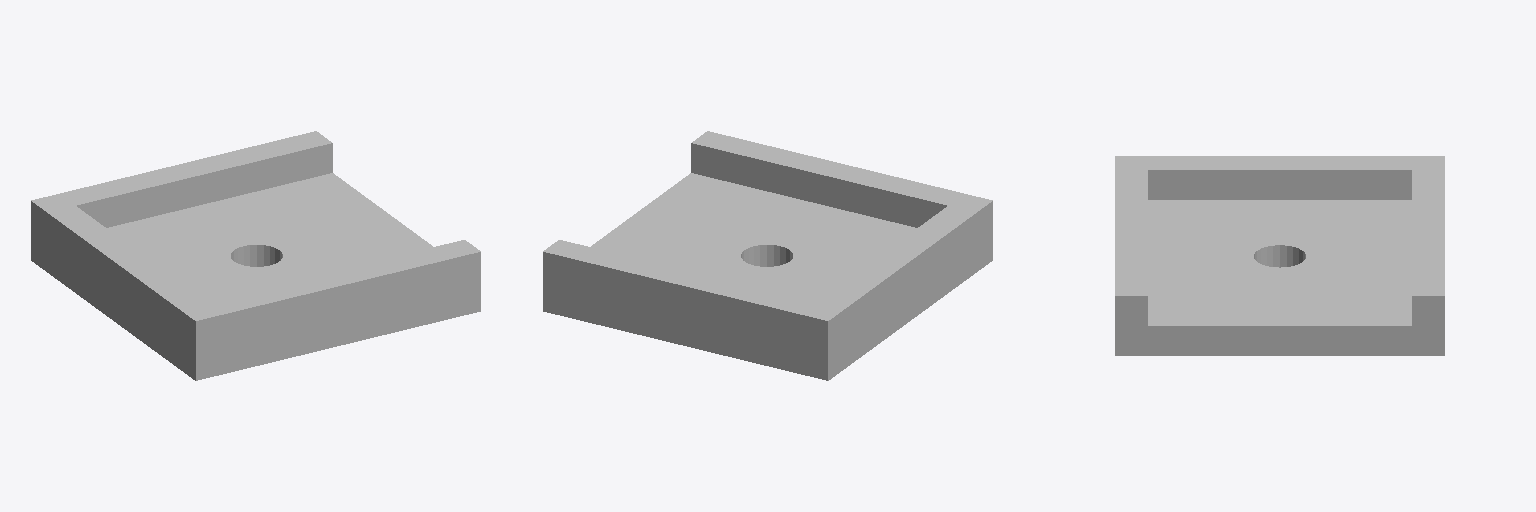
The model's file is mgoal.obj.
3 views of the same model, side by side, from view 1: azimuth 30°, elevation 25°; view 2: azimuth 150°, elevation 25°; view 3: azimuth 270°, elevation 25° (orthographic).
Visible parts, largest first — view 1: mgoal; view 2: mgoal; view 3: mgoal.
Part boxes in pixels (x1,y1,x2,y2): mgoal: (31,131,480,380); mgoal: (543,131,992,380); mgoal: (1115,156,1444,355).
Size of the model in its own units: 10 by 2 by 10.